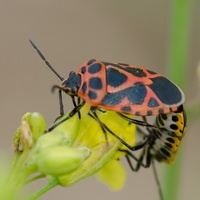insect: (26, 40, 185, 199), (99, 114, 144, 146)
